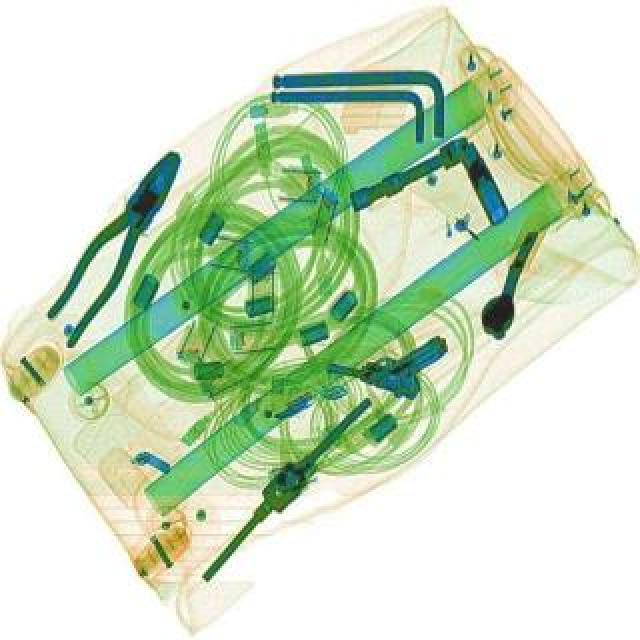gun: (322, 312, 450, 404)
wrench: (32, 140, 196, 350)
